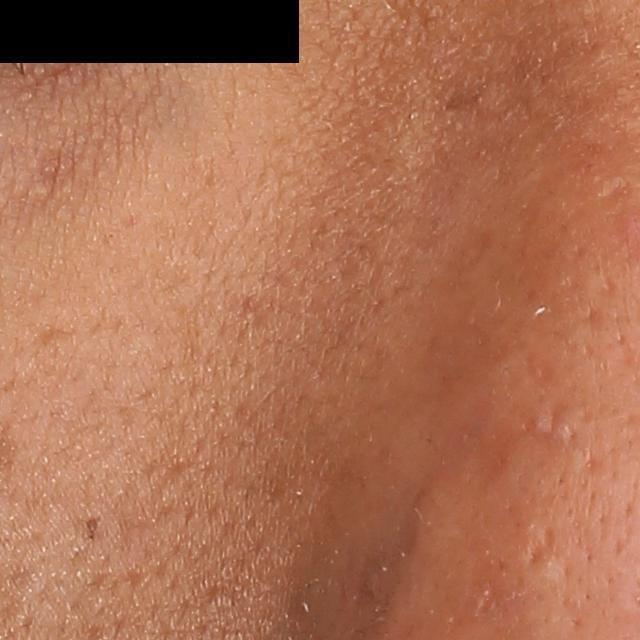atrophic_scar: (541, 402, 568, 436)
